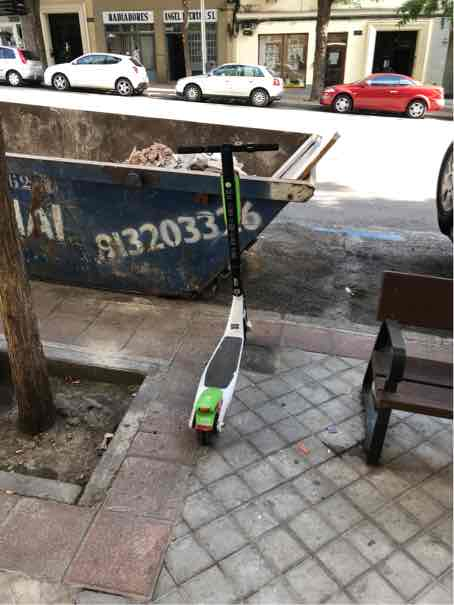scooter: (159, 130, 277, 459)
